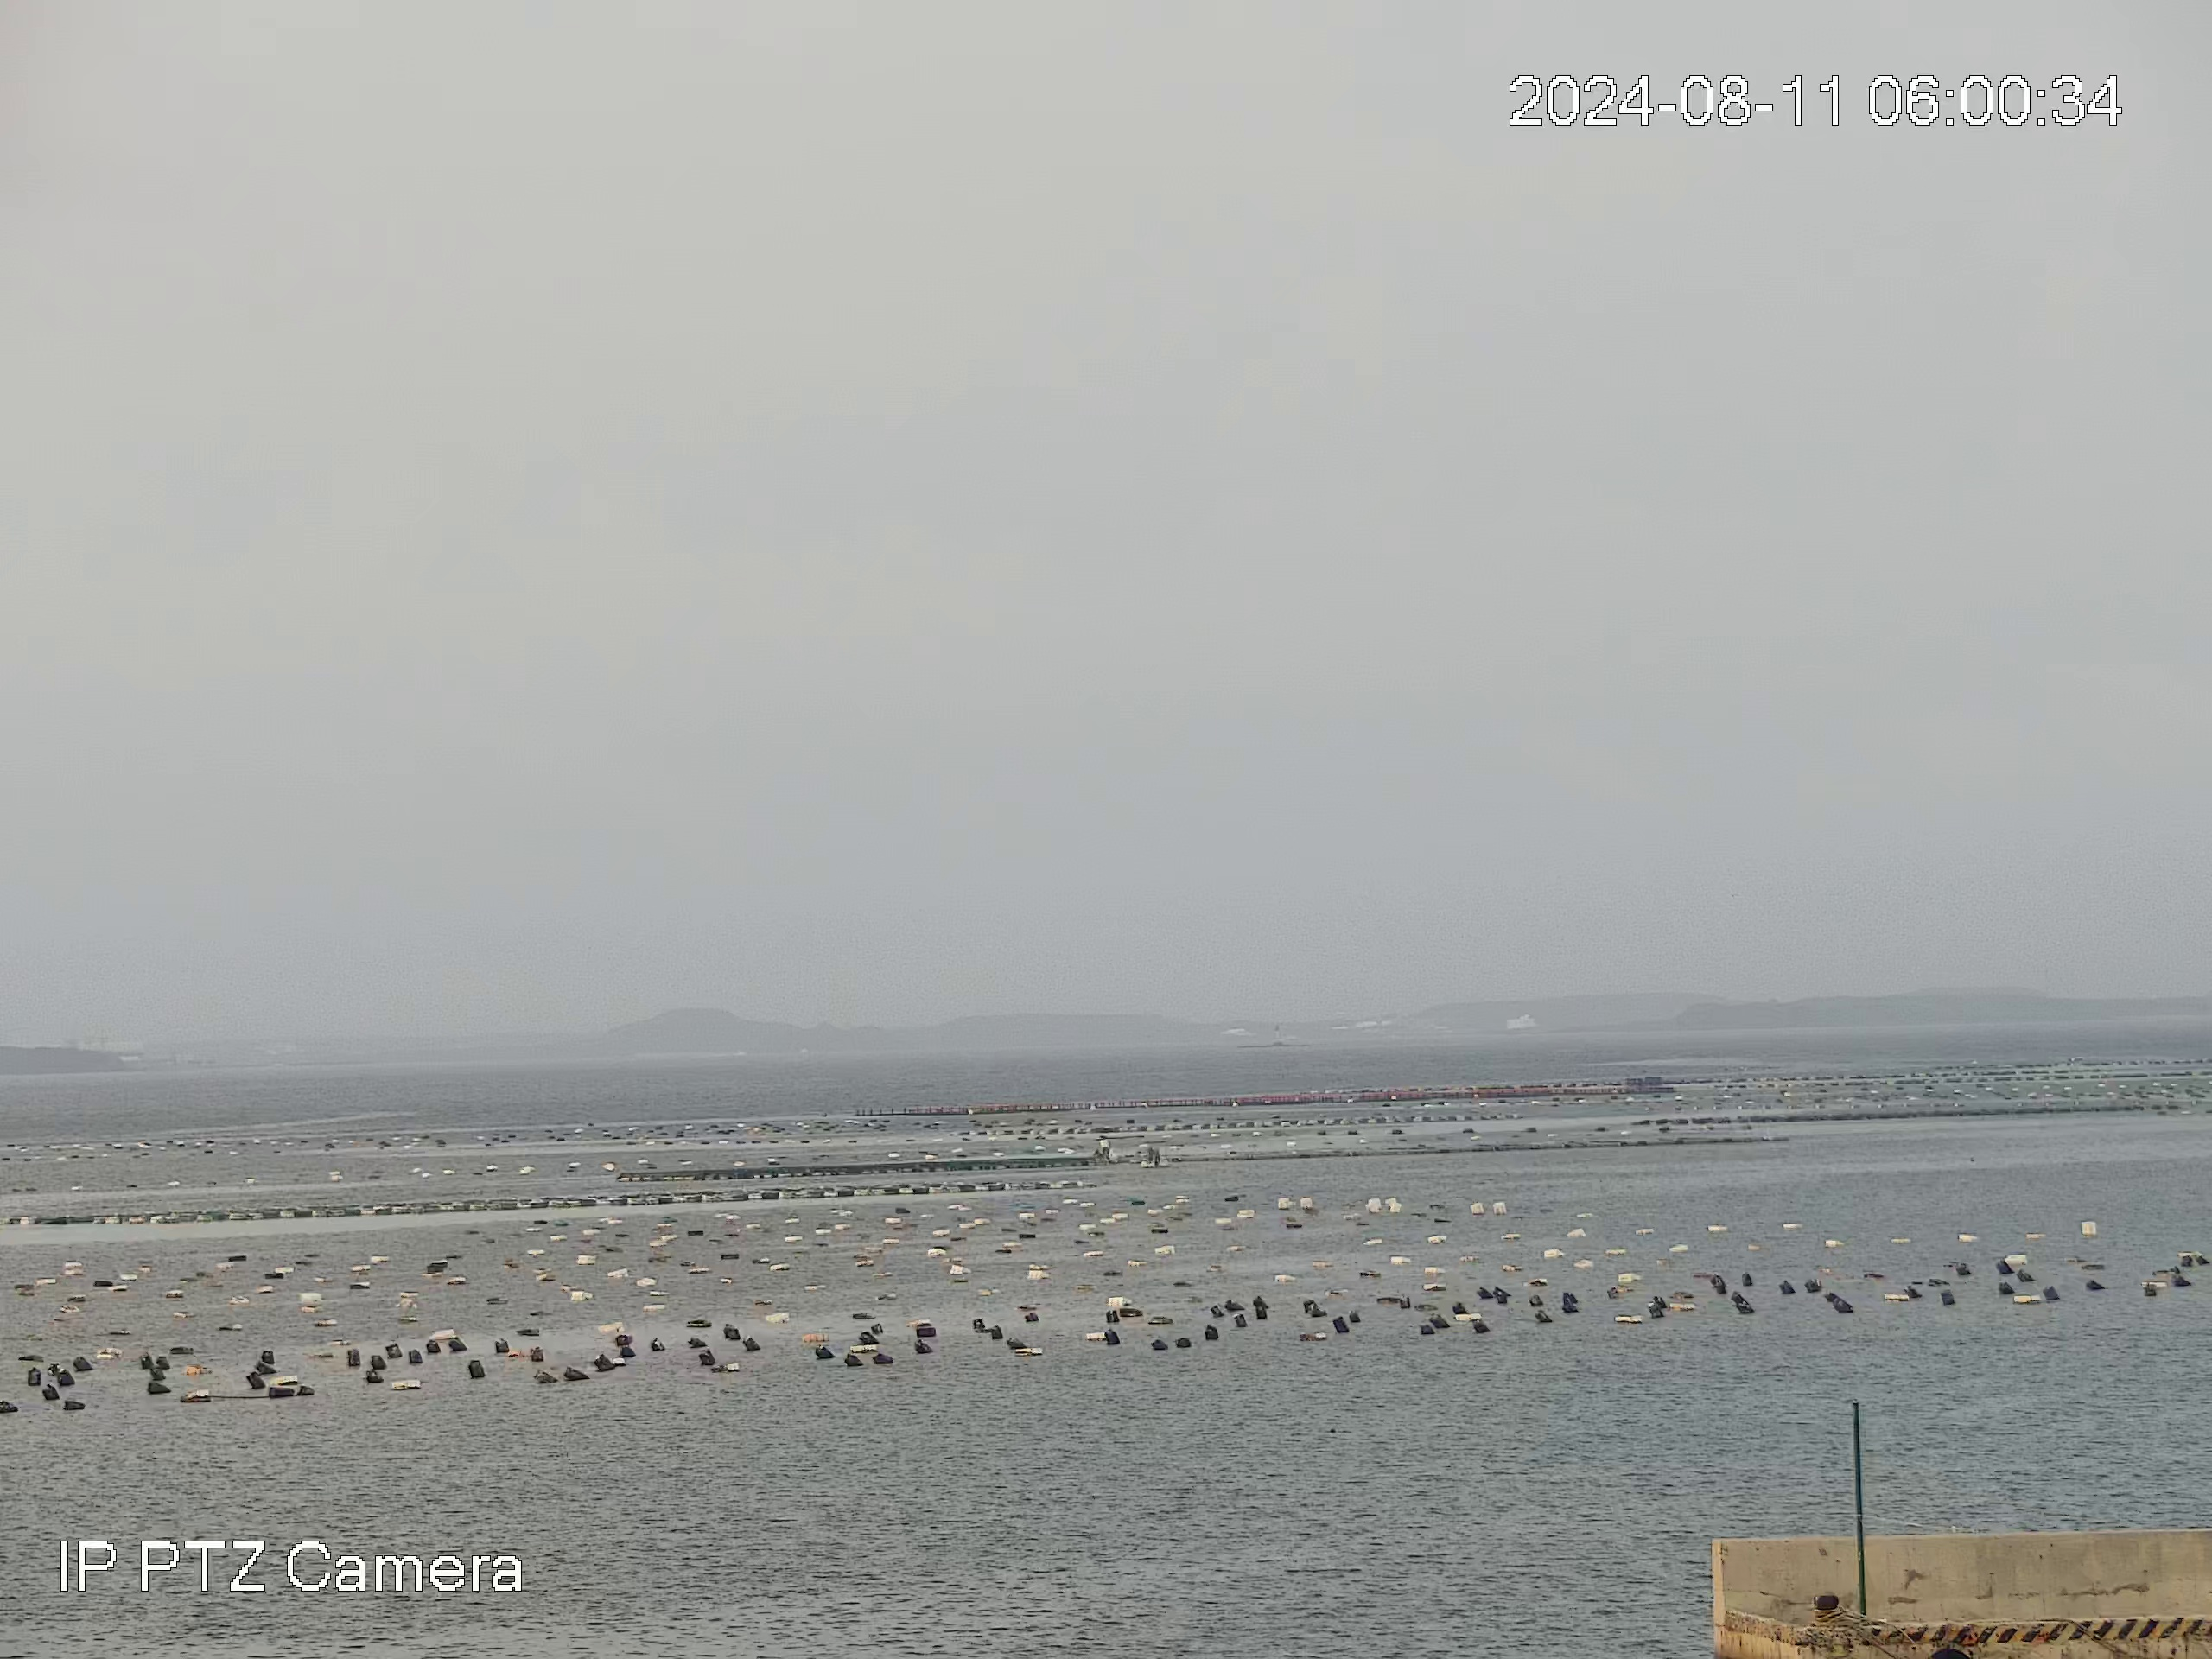boat: (1140, 1146, 1170, 1168)
